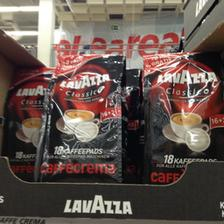Kaffee: (34, 52, 126, 180), (138, 49, 222, 184), (2, 62, 52, 177)
